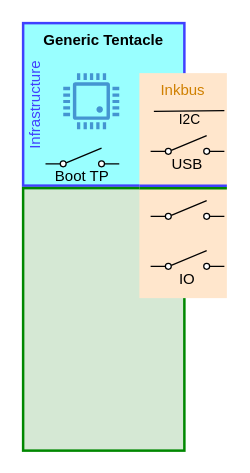
Some shapes in this 250 by 473 pixel diagram are drawn without their labels. The shapes that lost their labels are listed below. From the top down, each one's centre as x and y in pixels, then its label:
the point at 186,209: USB, 5V
the point at 103,318: TP (test participant)
